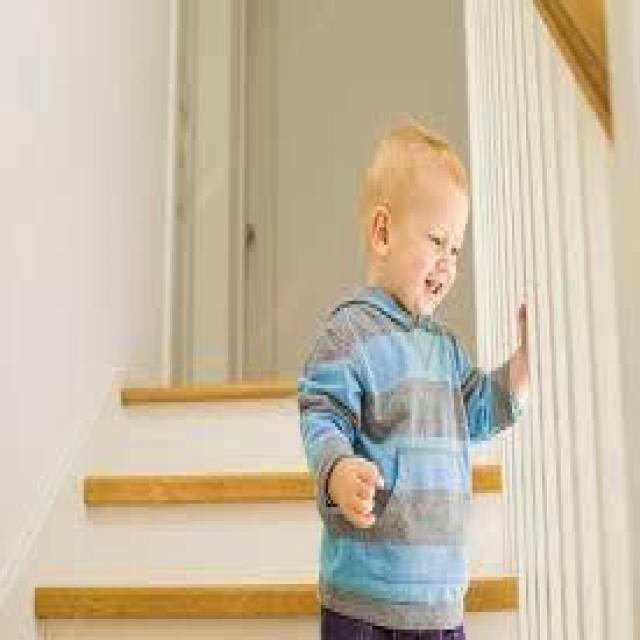child: (298, 115, 533, 640)
